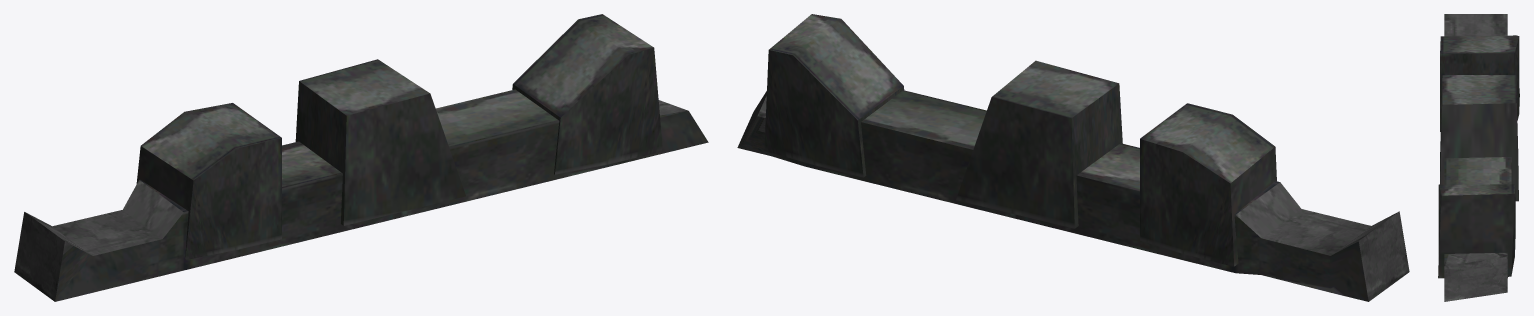
Rendered from environment_Building_qiaoliang_005_e.FBX.
The picture shows the model from 3 angles, left to right: view 1: azimuth 30°, elevation 25°; view 2: azimuth 150°, elevation 25°; view 3: azimuth 270°, elevation 25°; orthographic projection. The views are drawn at different scales.
Visible parts, largest first — view 1: environment_Building_qiaoliang_005_e; view 2: environment_Building_qiaoliang_005_e; view 3: environment_Building_qiaoliang_005_e.
Part boxes in pixels (left/top/right/bottom): environment_Building_qiaoliang_005_e: left=14, top=14, right=708, bottom=301; environment_Building_qiaoliang_005_e: left=737, top=14, right=1409, bottom=301; environment_Building_qiaoliang_005_e: left=1438, top=14, right=1519, bottom=301.
Bounding box in the file's own units: 176 × 30.47 × 24.68.
